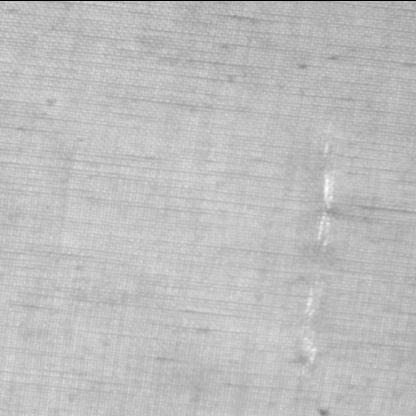thread error: (298, 119, 340, 379)
